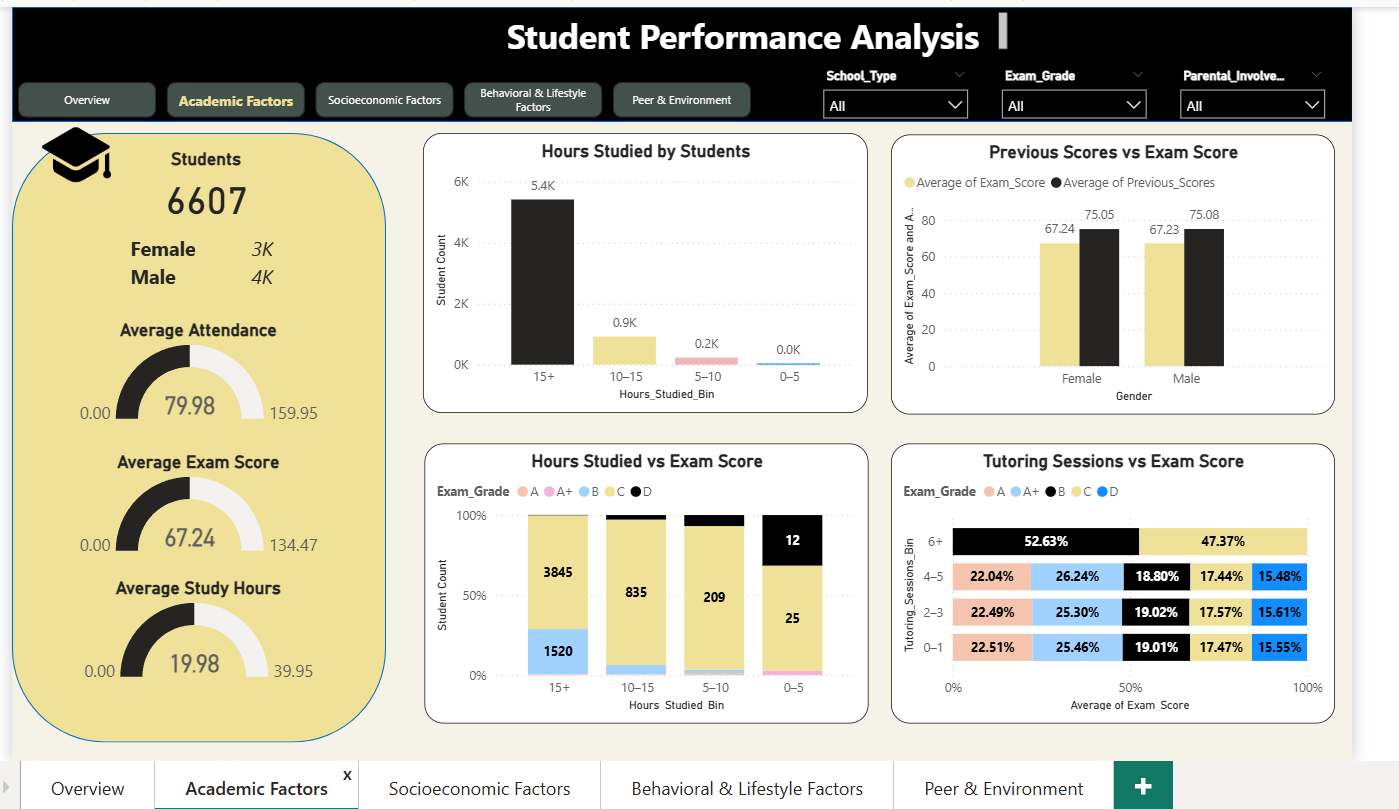

What the dashboard file says about the page in this screenshot:
{"tool":"powerbi","page":{"name":"Academic Factors","canvas":[1280,720],"ordinal":1},"visuals":[{"type":"shape","box":[0,120.9,357.2,582.1],"z":0},{"type":"group","id":"g1","title":"Group 1","box":[5.6,186.4,265.6,108.2],"z":0,"group":"g2"},{"type":"clusteredColumnChart","title":"Hours Studied by Students","fields":{"Y":["Students.Student Count"],"Category":["Students.Hours_Studied_Bin"]},"box":[392.9,120.9,424.7,267.2],"z":1000},{"type":"card","title":"Students","fields":{"Values":["Students.Student Count"]},"box":[36.2,134.1,299,74.8],"z":1000,"group":"g2"},{"type":"cardVisual","title":"Students","fields":{"Data":["Students.Student Count"]},"box":[5.6,186.4,265.6,108.2],"z":1000,"group":"g1"},{"type":"clusteredColumnChart","title":"Previous Scores vs Exam Score","fields":{"Y":["Avg(Students.Exam_Score)","Avg(Students.Previous_Scores)"],"Category":["Students.Gender"]},"box":[838.8,121.4,424.2,267.2],"z":2000},{"type":"gauge","fields":{"Y":["Students.Average Study Hours"]},"box":[15.2,544.5,324.5,105],"z":2000,"group":"g2"},{"type":"hundredPercentStackedColumnChart","title":"Hours Studied vs Exam Score","fields":{"Category":["Students.Hours_Studied_Bin"],"Series":["Students.Exam_Grade"],"Y":["Students.Student Count"]},"box":[393.5,416.1,424.2,267.2],"z":3000},{"type":"gauge","fields":{"Y":["Students.Average Exam Score"]},"box":[15.2,423.6,324.5,105],"z":3000,"group":"g2"},{"type":"gauge","fields":{"Y":["Students.Average Attendance"]},"box":[15.5,297.8,324.5,105],"z":4000,"group":"g2"},{"type":"hundredPercentStackedBarChart","title":"Tutoring Sessions vs Exam Score","fields":{"Category":["Students.Tutoring_Sessions_Bin"],"Y":["Avg(Students.Exam_Score)"],"Series":["Students.Exam_Grade"]},"box":[838.8,416.1,424.2,267.2],"z":4000},{"type":"shape","box":[0,0,1280.4,109.8],"z":5000},{"type":"slicer","fields":{"Values":["Students.Parental_Involvement"]},"box":[1106.5,52.5,158.1,57.3],"z":6000,"group":"g3"},{"type":"group","id":"g2","title":"Group 2","box":[5.6,134.1,334.4,515.4],"z":6000},{"type":"slicer","fields":{"Values":["Students.Exam_Grade"]},"box":[935.8,52.5,158.1,57.3],"z":7000,"group":"g3"},{"type":"image","box":[19.1,95.4,85.9,90.7],"z":7000},{"type":"slicer","fields":{"Values":["Students.School_Type"]},"box":[765.1,52.5,158.1,57.3],"z":8000,"group":"g3"},{"type":"pageNavigator","box":[6.4,71.6,704.6,35],"z":8000},{"type":"group","id":"g3","title":"Group 3","box":[765.1,52.5,499.5,57.3],"z":9000},{"type":"textbox","box":[467.6,0,488.3,55.7],"z":10000}]}

Visuals, with their boxes on the page's 1280x720 design canvas (x1, y1, x2, y2). These are canvas units, not pixel positions in the 1399x809 screenshot, which may show the page scaled, cropped or inside an application window:
shape: (x1=0, y1=121, x2=357, y2=703)
"Group 1" group: (x1=6, y1=186, x2=271, y2=295)
"Hours Studied by Students" clusteredColumnChart: (x1=393, y1=121, x2=818, y2=388)
"Students" card: (x1=36, y1=134, x2=335, y2=209)
"Students" cardVisual: (x1=6, y1=186, x2=271, y2=295)
"Previous Scores vs Exam Score" clusteredColumnChart: (x1=839, y1=121, x2=1263, y2=389)
gauge - Students.Average Study Hours: (x1=15, y1=544, x2=340, y2=650)
"Hours Studied vs Exam Score" hundredPercentStackedColumnChart: (x1=394, y1=416, x2=818, y2=683)
gauge - Students.Average Exam Score: (x1=15, y1=424, x2=340, y2=529)
gauge - Students.Average Attendance: (x1=16, y1=298, x2=340, y2=403)
"Tutoring Sessions vs Exam Score" hundredPercentStackedBarChart: (x1=839, y1=416, x2=1263, y2=683)
shape: (x1=0, y1=0, x2=1280, y2=110)
slicer - Students.Parental_Involvement: (x1=1106, y1=52, x2=1265, y2=110)
"Group 2" group: (x1=6, y1=134, x2=340, y2=650)
slicer - Students.Exam_Grade: (x1=936, y1=52, x2=1094, y2=110)
image: (x1=19, y1=95, x2=105, y2=186)
slicer - Students.School_Type: (x1=765, y1=52, x2=923, y2=110)
pageNavigator: (x1=6, y1=72, x2=711, y2=107)
"Group 3" group: (x1=765, y1=52, x2=1265, y2=110)
textbox: (x1=468, y1=0, x2=956, y2=56)
